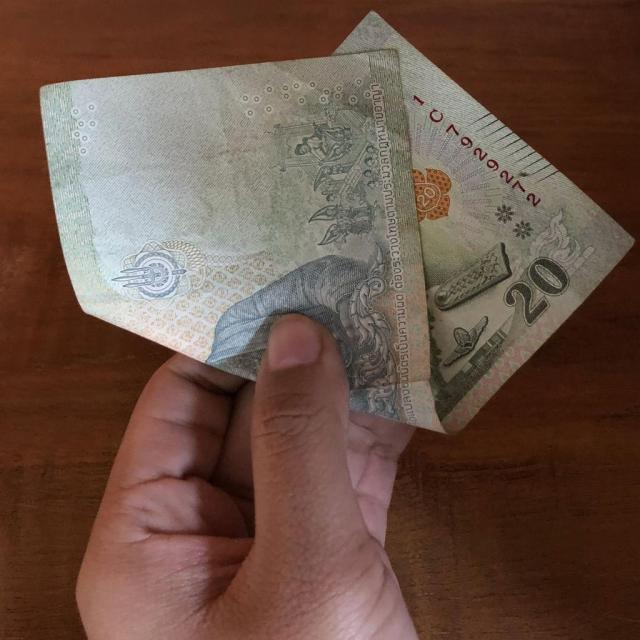THAI20: (38, 12, 634, 438)
